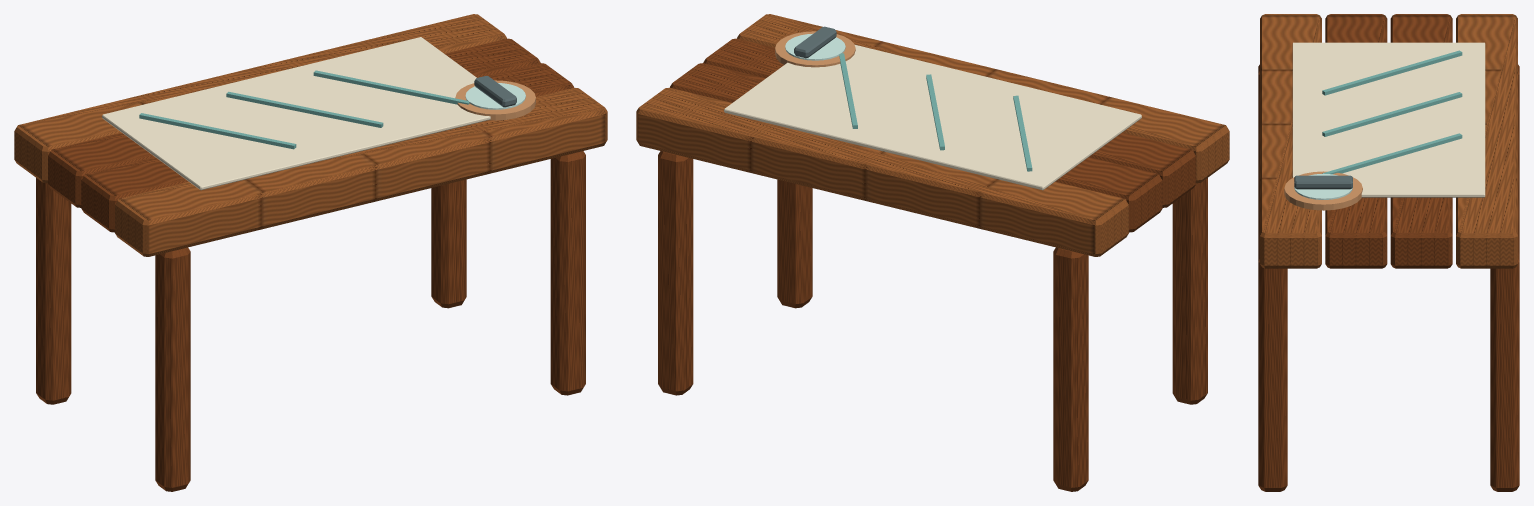
File: ocean-raft-settlement-ocean-raft-settlement-chart-tabl-f5de23c4__28913.glb
3 renders of one model, left to right at view 1: azimuth 30°, elevation 25°; view 2: azimuth 150°, elevation 25°; view 3: azimuth 270°, elevation 25°, orthographic. The views are drawn at different scales.
Visible parts, largest first — view 1: wood, pale, canvas, teal, copper, foam, iron; view 2: wood, pale, canvas, teal, copper, foam, iron; view 3: canvas, wood, pale, teal, copper, iron, foam.
Boxes of the visible parts, box(x1,y1,x2,y2) form: wood: box(36, 38, 585, 491); pale: box(14, 14, 607, 256); canvas: box(102, 37, 490, 190); teal: box(139, 70, 469, 149); copper: box(455, 80, 535, 120); foam: box(465, 83, 525, 109); iron: box(474, 76, 516, 107); wood: box(658, 38, 1207, 491); pale: box(636, 14, 1229, 256); canvas: box(724, 45, 1141, 190); teal: box(839, 53, 1032, 171); copper: box(775, 31, 855, 67); foam: box(785, 33, 845, 60); iron: box(794, 26, 836, 58); canvas: box(1292, 42, 1485, 197); wood: box(1258, 14, 1519, 491); pale: box(1260, 14, 1517, 268); teal: box(1322, 50, 1462, 174); copper: box(1284, 171, 1362, 210); iron: box(1294, 175, 1352, 189); foam: box(1294, 173, 1352, 199).
Size of the model in its own units: 1.6 by 0.967 by 0.8001.
7 materials, 2 textured.
